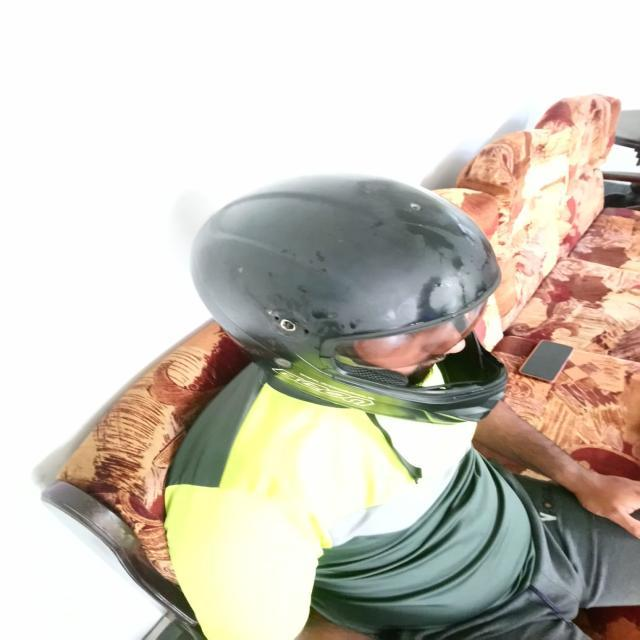helmet: (155, 163, 542, 452)
